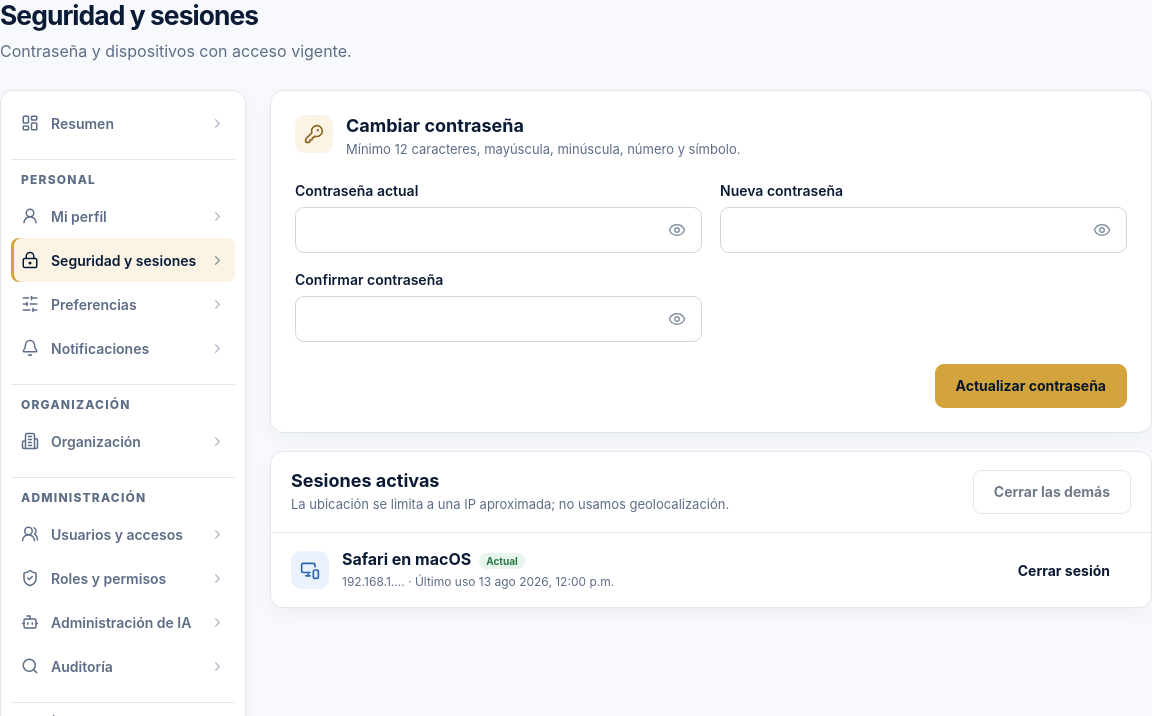
Configuración, usuarios y accesos › seguridad identifica la sesión actual y pide confirmación antes de cerrarla
expect the text "Safari en macOS" is shown: met, box x1=342 y1=549 x2=471 y2=569
expect the text "Actual" is shown: met, box x1=479 y1=553 x2=525 y2=569
Click the button "Cerrar sesión": {"x": 1064, "y": 570} x1=997 y1=548 x2=1131 y2=592
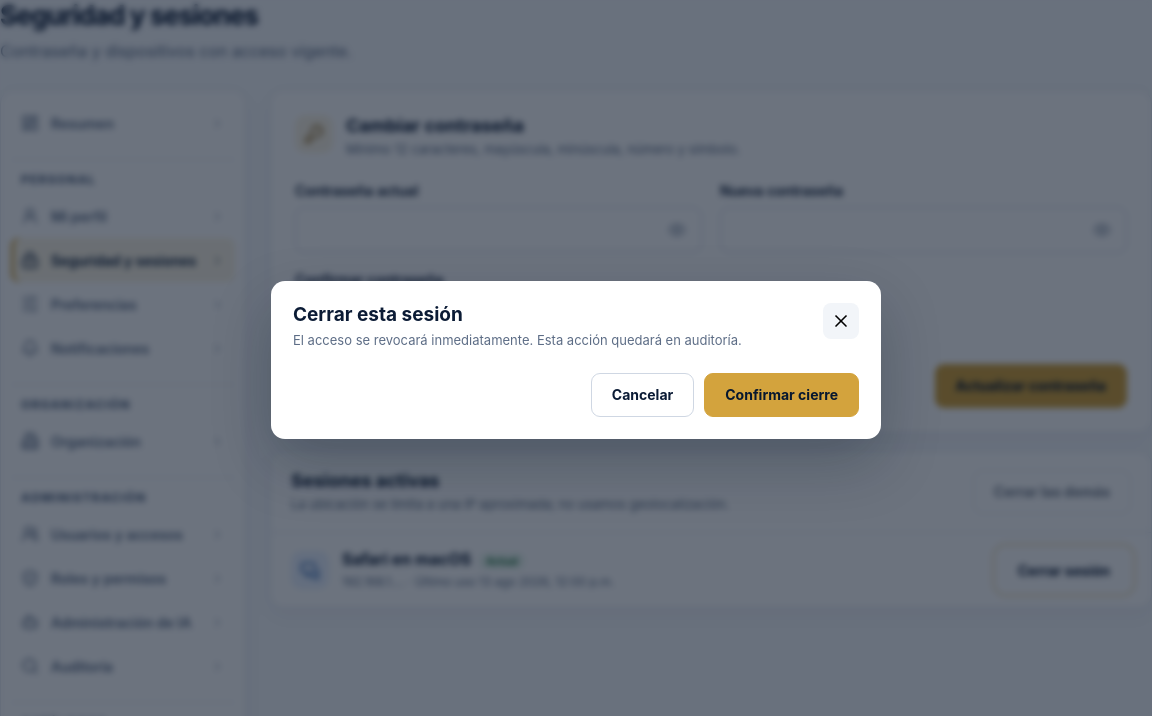
expect the dialog "Cerrar esta sesión" is shown: met, box x1=271 y1=281 x2=881 y2=439
